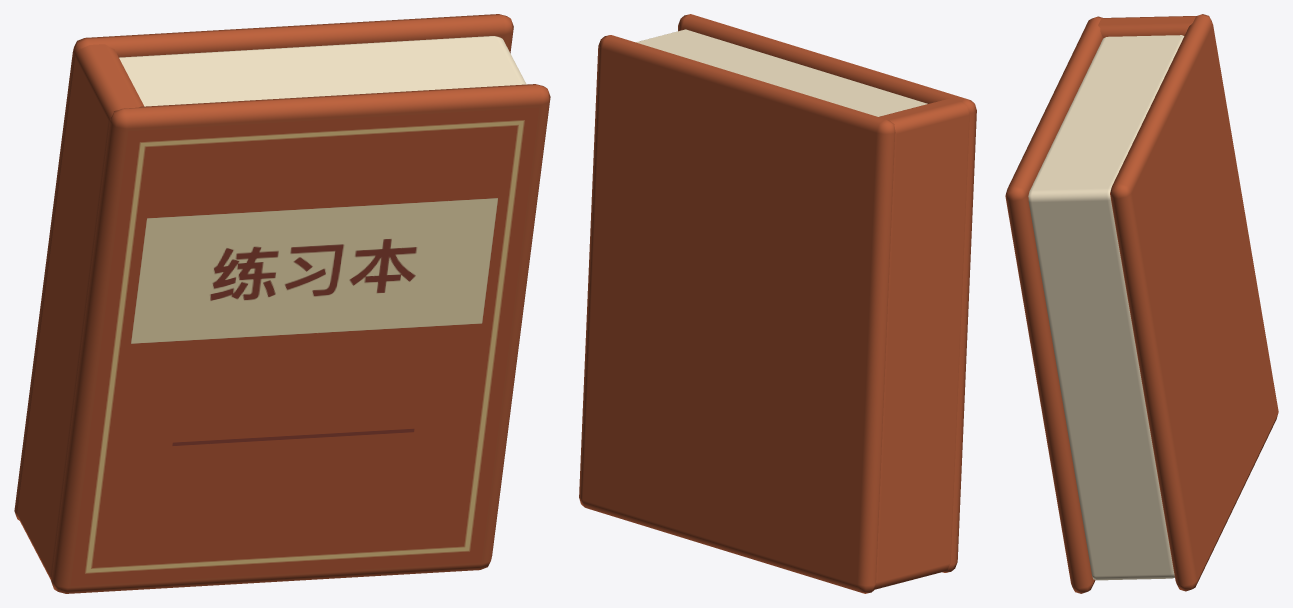
The model's file is book.glb.
3 views of the same model, side by side, from view 1: azimuth 30°, elevation 25°; view 2: azimuth 150°, elevation 25°; view 3: azimuth 270°, elevation 25° (orthographic). The views are drawn at different scales.
Size of the model in its own units: 0.8037 by 0.9808 by 0.5381.
Materials: 3 (1 with a texture image).
